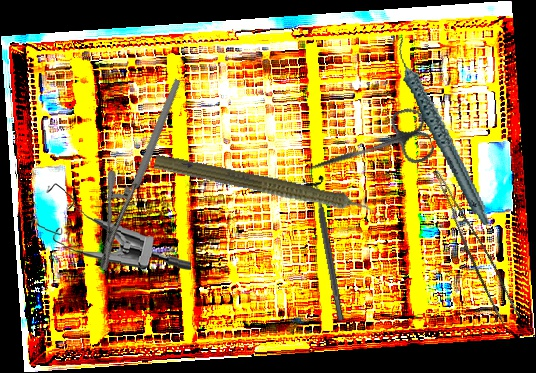Fixation Ring: (301, 174, 353, 323)
Handpiece: (394, 28, 490, 236), (151, 149, 388, 228)
Iris Scissors: (302, 104, 437, 197)
Needle Holder: (49, 77, 233, 273)
Speculum: (28, 180, 196, 274)
Tissue Forceps: (416, 168, 526, 328)
